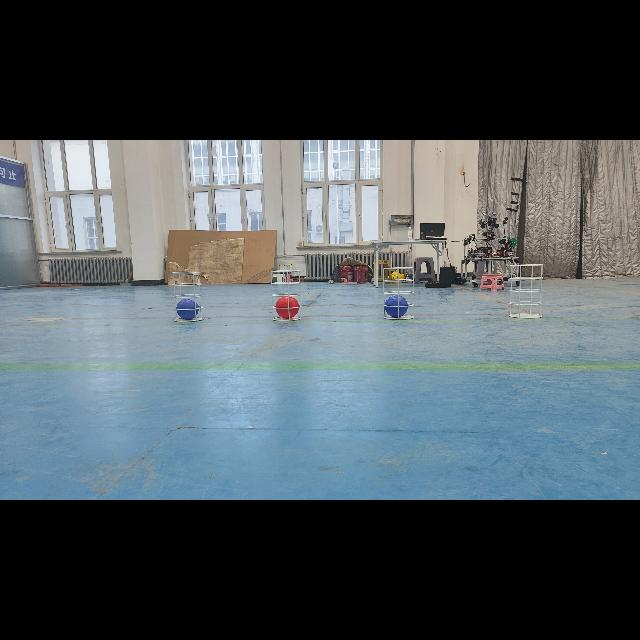B: (385, 294, 409, 318), (176, 298, 198, 320)
R: (274, 294, 300, 320)
S: (506, 261, 546, 321), (380, 264, 418, 322), (268, 266, 304, 324), (170, 270, 204, 324)
